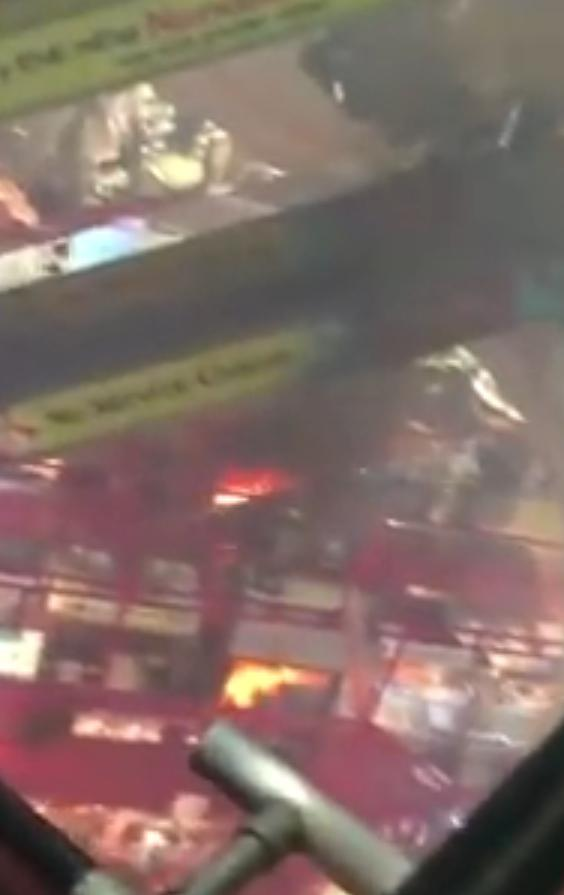fire: (197, 630, 339, 730)
smoke: (241, 23, 534, 586)
